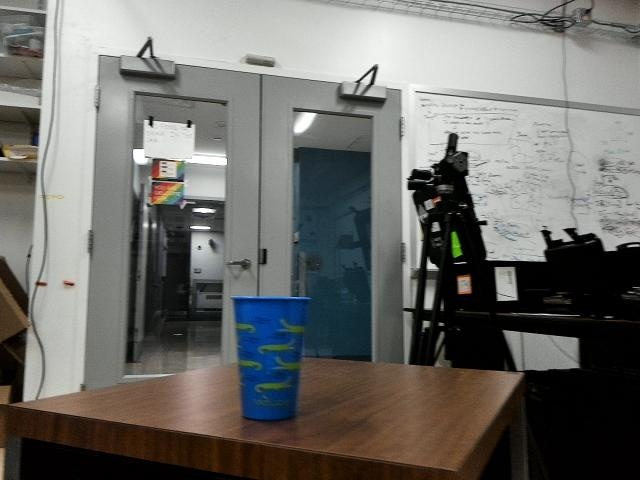water_cup: (219, 289, 314, 427)
